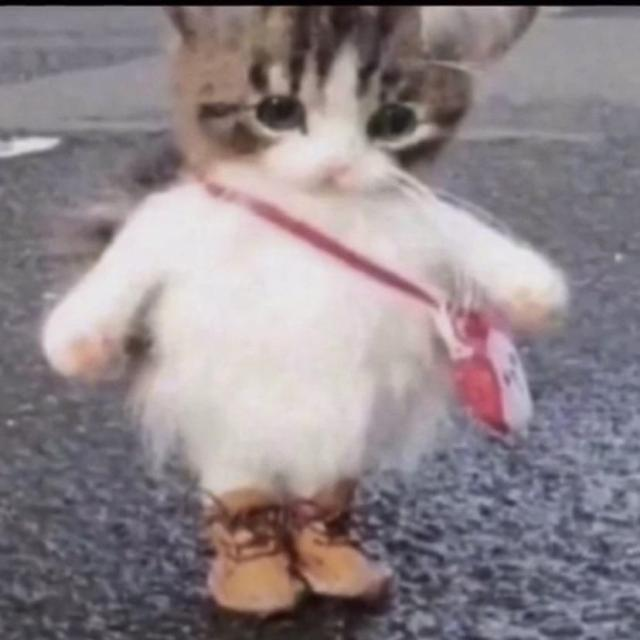cat: (108, 2, 530, 496)
